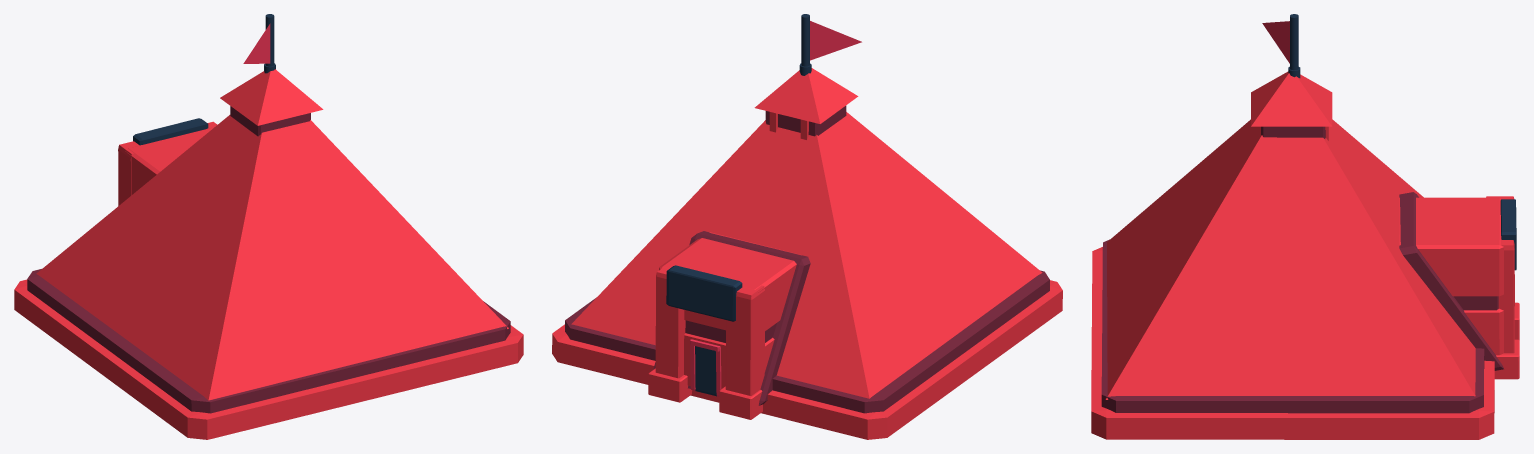
Rendered from 3D_EnemyPyramid.fbx.
The picture shows the model from 3 angles, left to right: view 1: azimuth 30°, elevation 25°; view 2: azimuth 150°, elevation 25°; view 3: azimuth 270°, elevation 25°; orthographic projection. The views are drawn at different scales.
Parts seen in each view (by area): view 1: 3D_EnemyPyramid; view 2: 3D_EnemyPyramid; view 3: 3D_EnemyPyramid.
Part boxes in pixels (bbox=[...]): 3D_EnemyPyramid: bbox=[14, 14, 523, 439]; 3D_EnemyPyramid: bbox=[552, 14, 1062, 439]; 3D_EnemyPyramid: bbox=[1091, 14, 1519, 439].
Bounding box in the file's own units: 629 × 567 × 648.
1 material, 1 textured.
